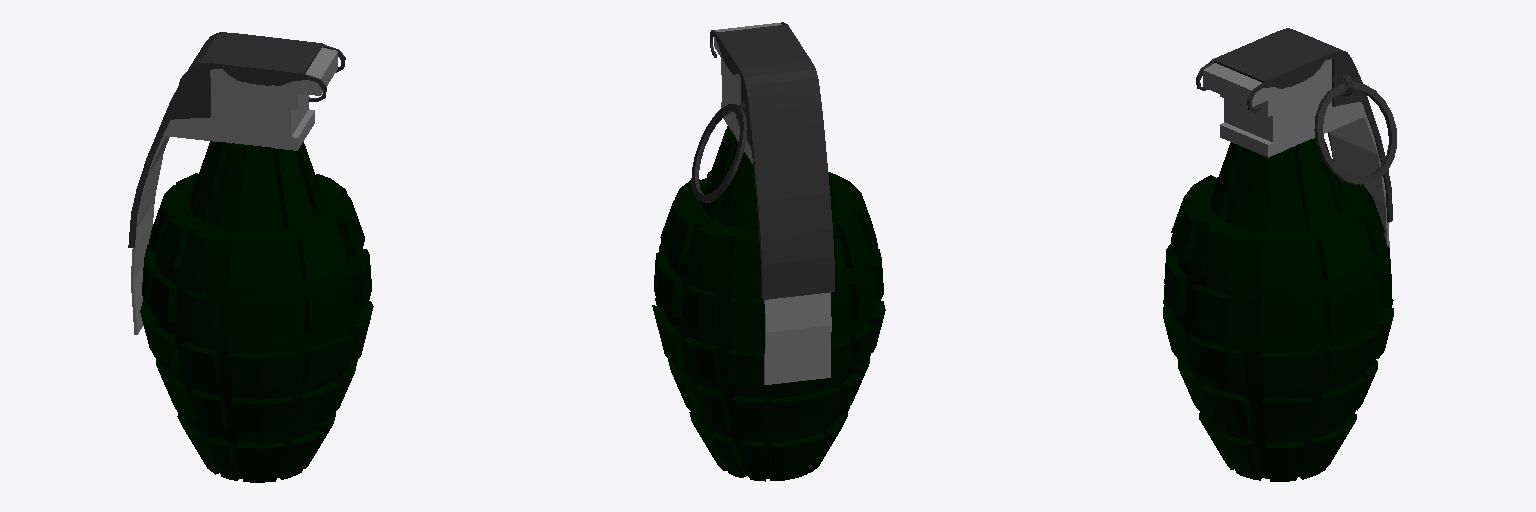
The model's file is Grenade.obj.
The picture shows the model from 3 angles: view 1: azimuth 30°, elevation 25°; view 2: azimuth 150°, elevation 25°; view 3: azimuth 270°, elevation 25°; orthographic projection.
Parts seen in each view (by area): view 1: polySurface6; view 2: polySurface6; view 3: polySurface6.
Part boxes in pixels (bbox=[...]): polySurface6: bbox=[128, 32, 373, 482]; polySurface6: bbox=[652, 22, 885, 481]; polySurface6: bbox=[1163, 28, 1396, 481].
Size of the model in its own units: 9.38 by 18.25 by 9.52.